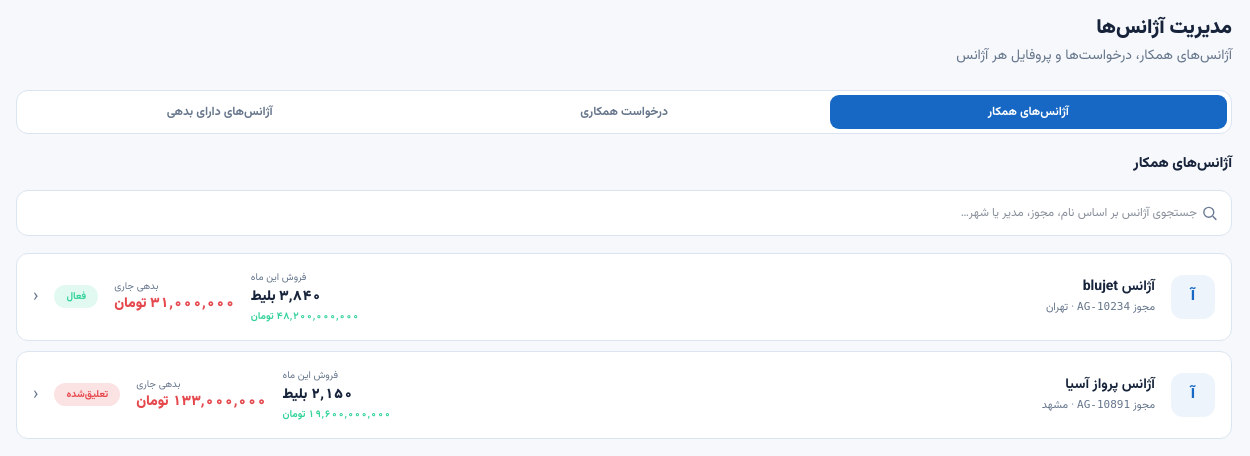
Test: AgenciesListPage › Commercial Manager: coop-requests tab shows pending requests
Expected: the text "آژانس blujet" is shown, [1083, 276, 1155, 298]
Click the button "درخواست همکاری": (624, 112) [425, 95, 823, 129]
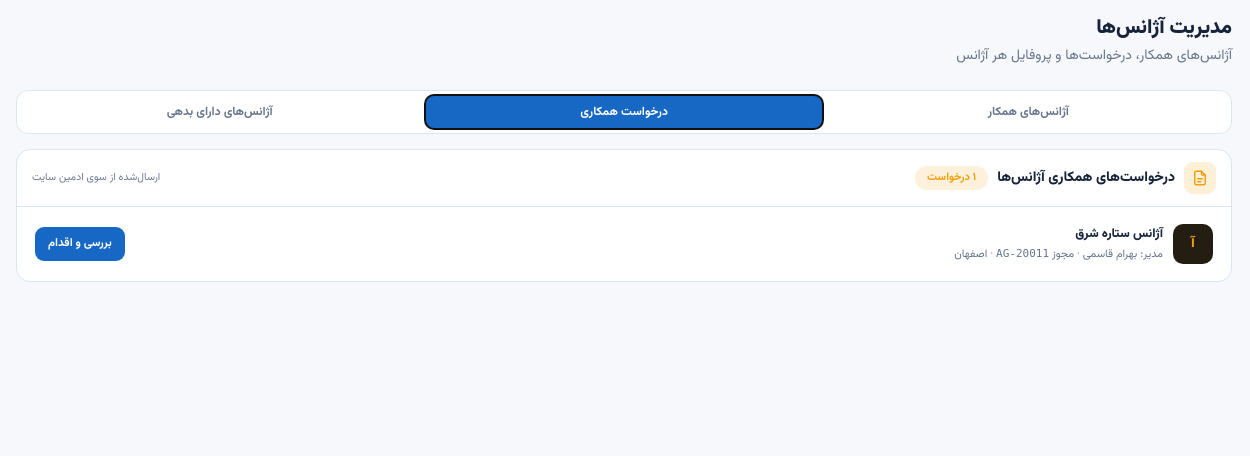
Expected: the heading "درخواست‌های همکاری آژانس‌ها" is shown, [997, 168, 1175, 188]
Expected: the text "آژانس ستاره شرق" is shown, [1075, 224, 1163, 244]
Expected: the link "بررسی و اقدام" is shown, [35, 227, 125, 261]
